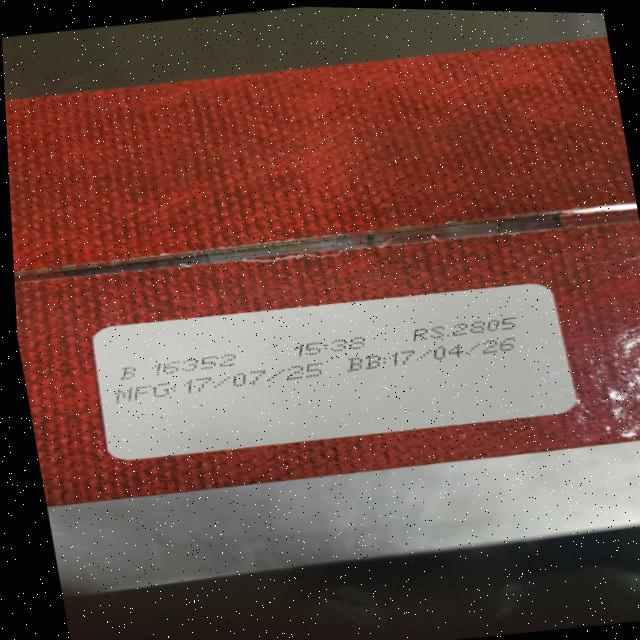BB: (343, 333, 523, 376)
Batch: (115, 351, 243, 382)
MFG: (113, 357, 329, 406)
RS: (409, 313, 524, 343)
TimeStamp: (290, 334, 369, 359)
